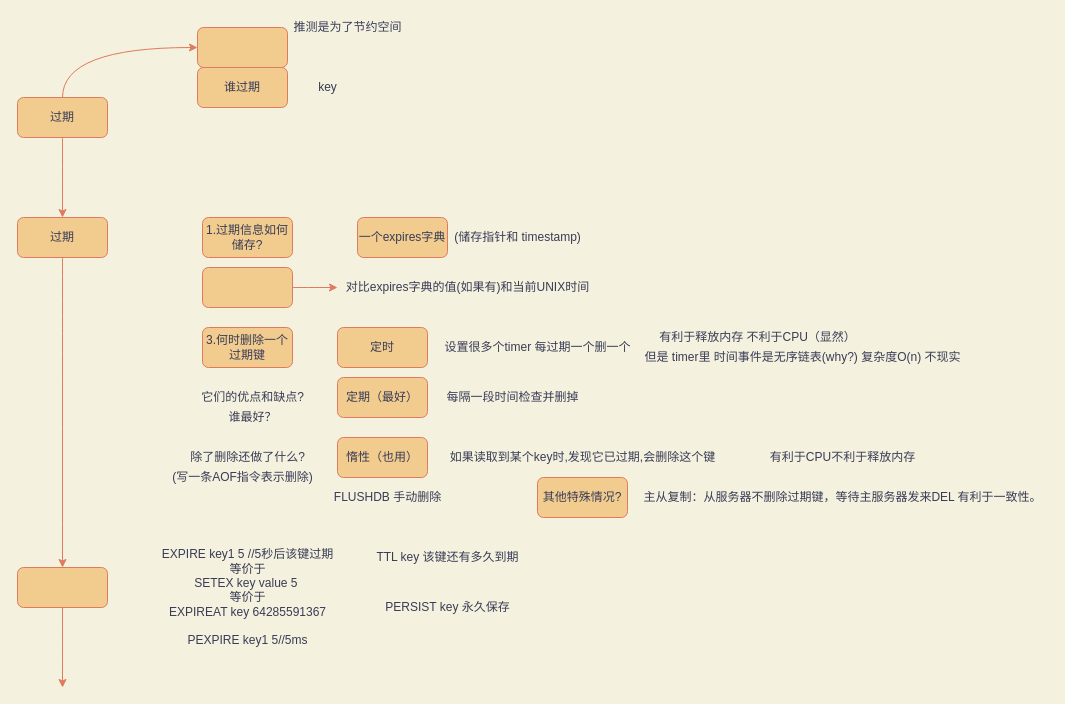
This 1065x704 diagram has some shape labels left out. Here are the shapes that lost their labels. From the top down, the centre of each, then its label:
At point 242,47: "为什么过期？".
At point 247,287: "2.如何判断一个键是否过期".
At point 62,587: "指令/操作".
